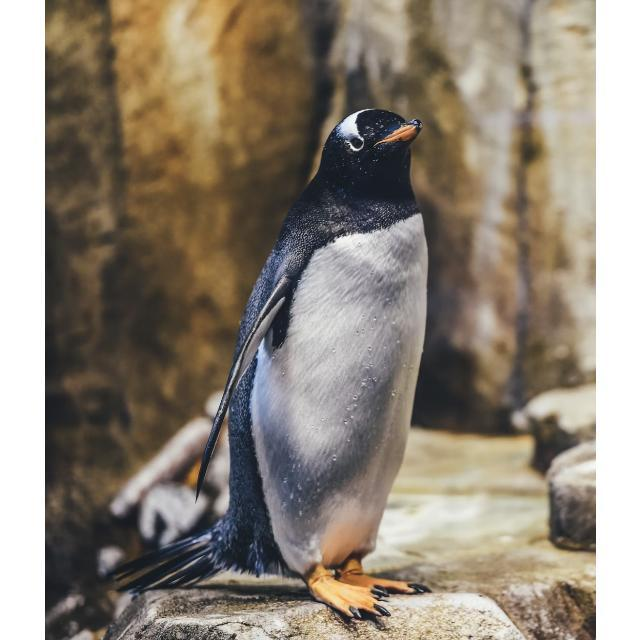penguin: (105, 108, 432, 623)
